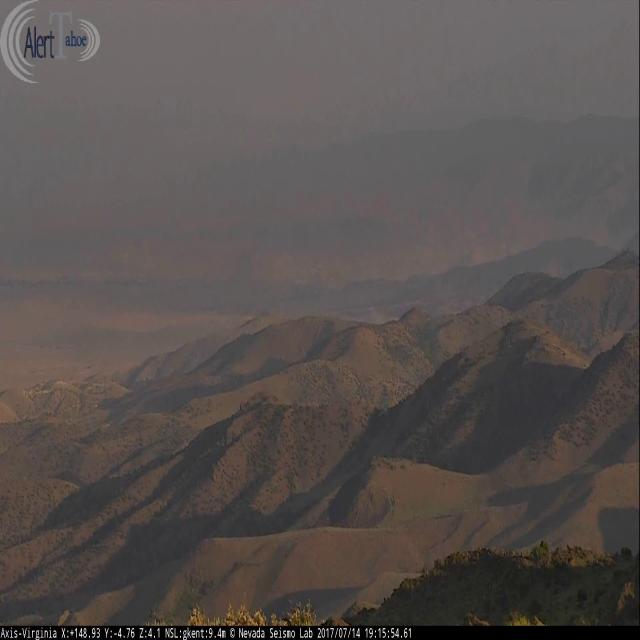smoke: (350, 306, 399, 325)
